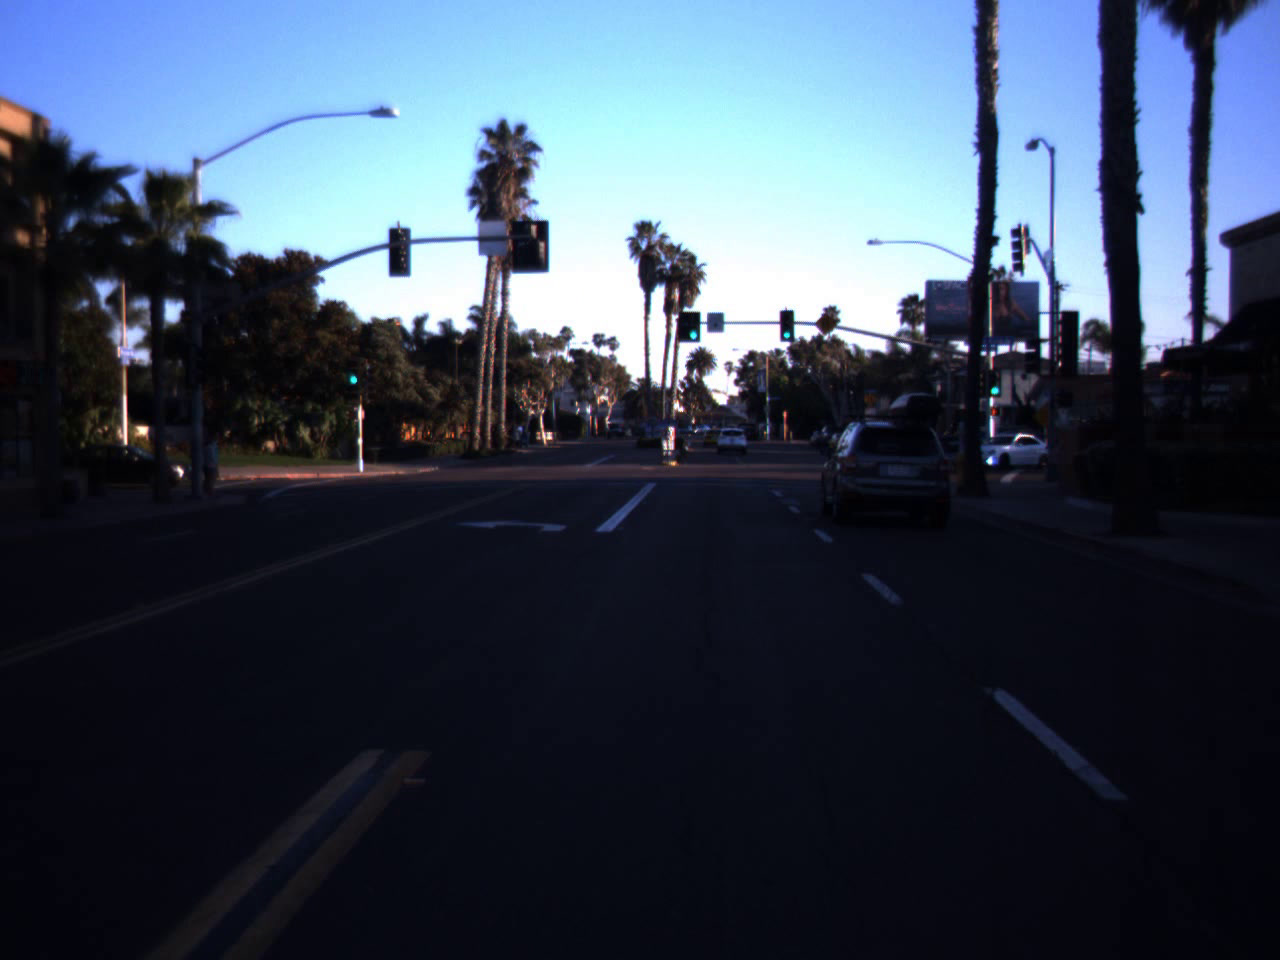go: (684, 307, 702, 342), (345, 356, 363, 386), (986, 367, 1004, 397), (779, 315, 794, 340)
